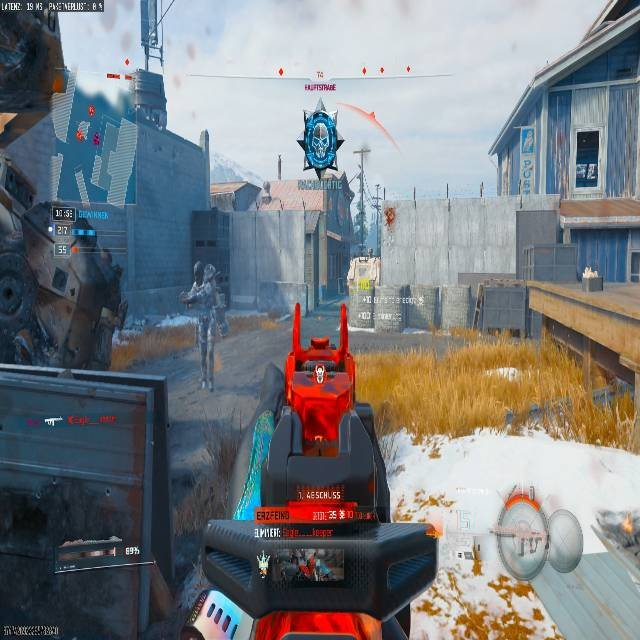head: (73, 230, 98, 252), (192, 259, 204, 276)
player: (53, 234, 125, 369), (180, 258, 229, 370)
